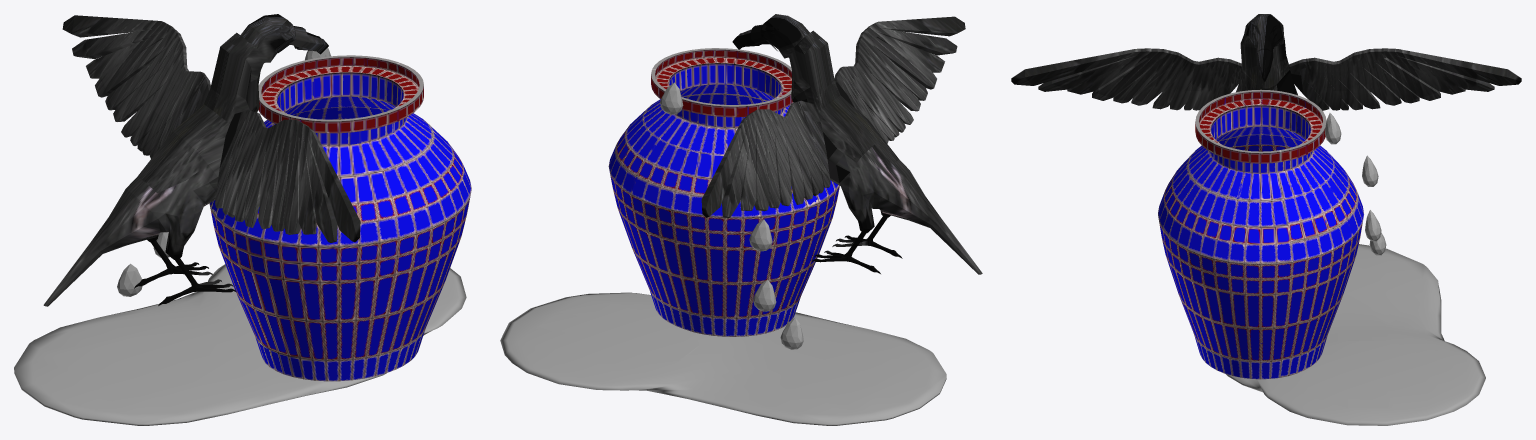
The model's file is bheegahuakaua18.obj.
3 views of the same model, side by side, from view 1: azimuth 30°, elevation 25°; view 2: azimuth 150°, elevation 25°; view 3: azimuth 270°, elevation 25° (orthographic). The views are drawn at different scales.
Parts seen in each view (by area): view 1: Circle, Cylinder, Mball, Icosphere.002_Icosphere.003; view 2: Circle, Mball, Cylinder, Icosphere.002_Icosphere.003, Icosphere_Icosphere.001, Icosphere.001_Icosphere.002, Icosphere.003_Icosphere.004; view 3: Circle, Mball, Cylinder.
Boxes of the visible parts, x1,y1,x2,y2 form: Circle: [209, 55, 471, 381]; Cylinder: [43, 14, 360, 306]; Mball: [14, 264, 466, 425]; Icosphere.002_Icosphere.003: [117, 263, 142, 296]; Circle: [608, 48, 839, 336]; Mball: [500, 292, 946, 425]; Cylinder: [701, 14, 982, 274]; Icosphere.002_Icosphere.003: [780, 317, 803, 349]; Icosphere_Icosphere.001: [753, 279, 776, 311]; Icosphere.001_Icosphere.002: [749, 219, 772, 251]; Icosphere.003_Icosphere.004: [660, 82, 683, 114]; Circle: [1158, 89, 1363, 379]; Mball: [1226, 244, 1485, 425]; Cylinder: [1011, 14, 1521, 110].
Size of the model in its own units: 1.18 by 0.8832 by 1.28.
Materials: 10 (3 with a texture image).
